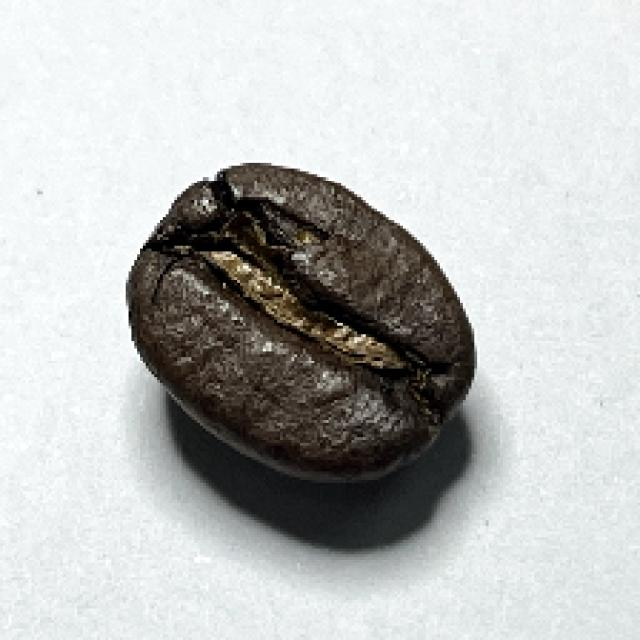bean: (122, 158, 474, 477)
